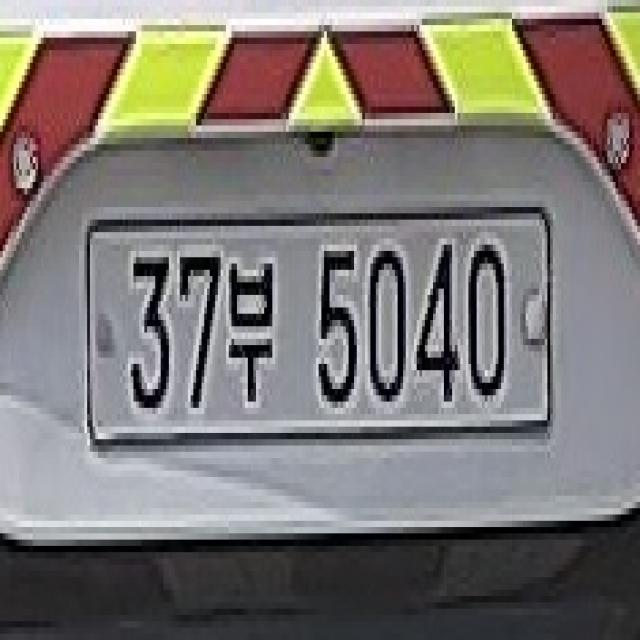0: (463, 232, 509, 402), (365, 238, 408, 402)
3: (128, 245, 172, 414)
4: (411, 238, 460, 402)
5: (313, 245, 362, 414)
7: (177, 239, 221, 414)
bu: (226, 251, 275, 414)
license_plate: (87, 213, 550, 452)
